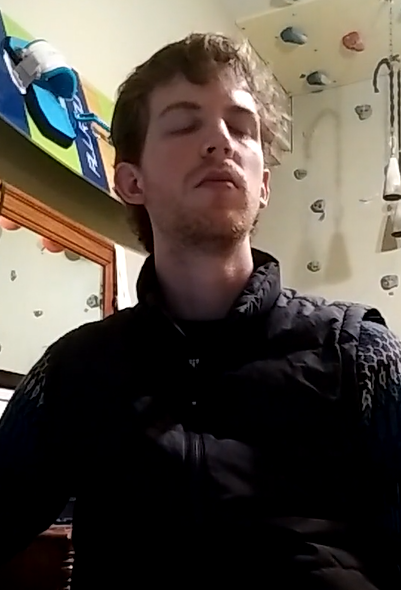Sleeping: (147, 100, 270, 148)
